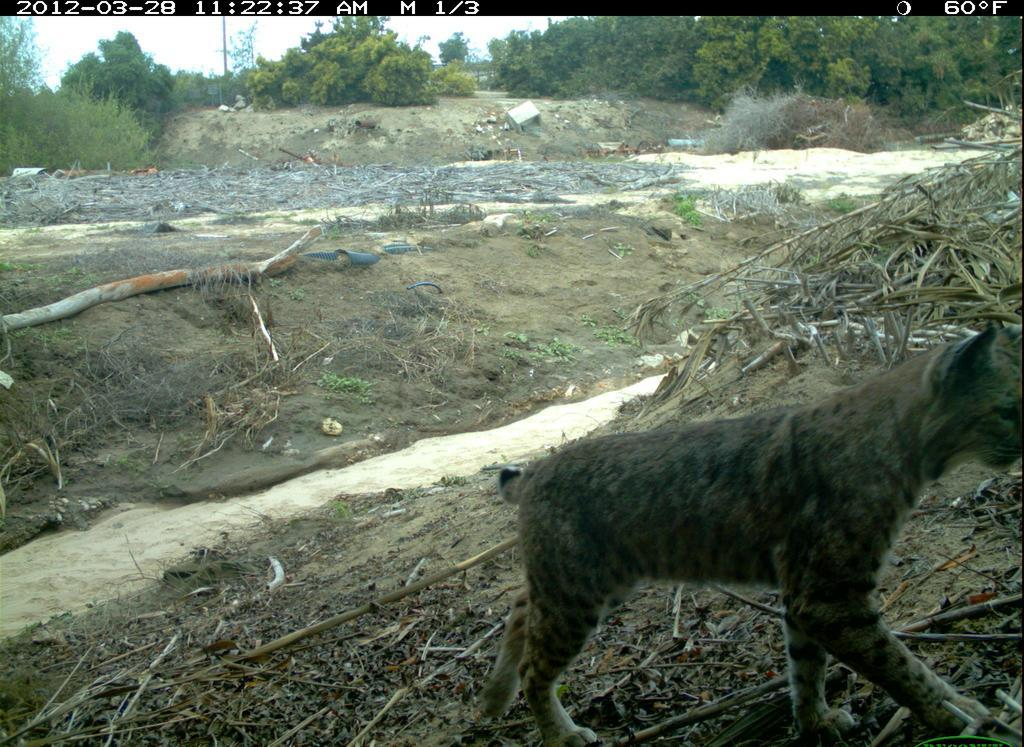bobcat: (452, 322, 1023, 737)
